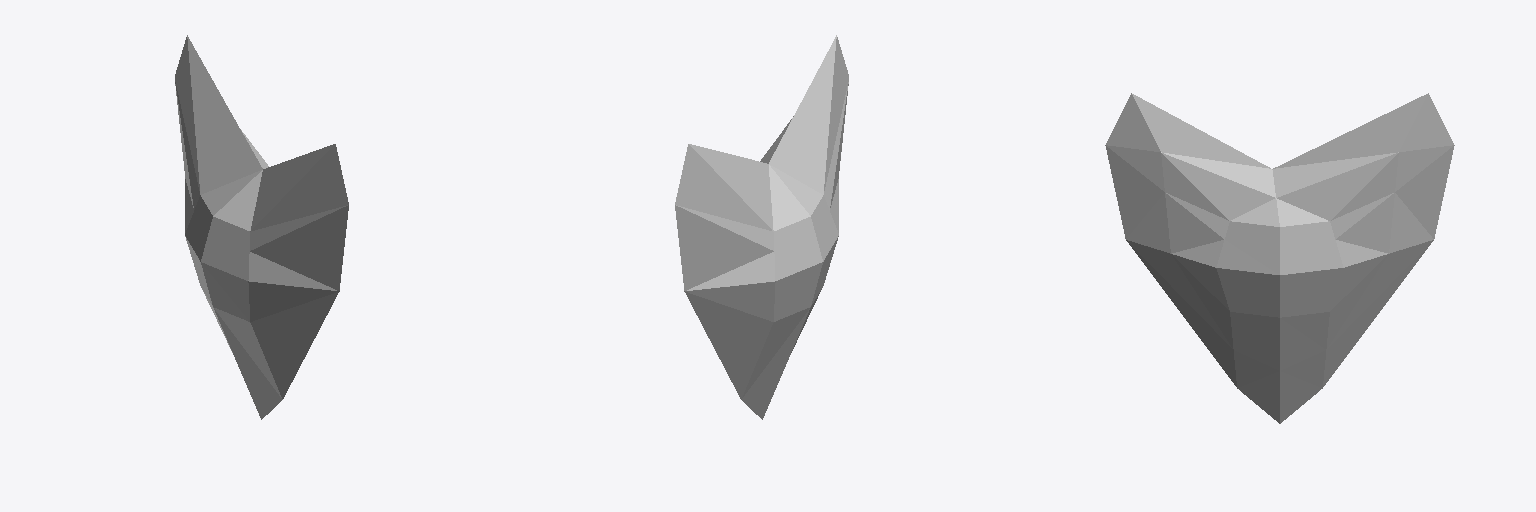
File: heart.obj
The picture shows the model from 3 angles: view 1: azimuth 30°, elevation 25°; view 2: azimuth 150°, elevation 25°; view 3: azimuth 270°, elevation 25°; orthographic projection.
Parts seen in each view (by area): view 1: Cube; view 2: Cube; view 3: Cube.
Boxes of the visible parts, <box> form: Cube: <box>175,35,348,419</box>; Cube: <box>675,35,848,419</box>; Cube: <box>1105,93,1454,423</box>.
Bounding box in the file's own units: 2.55 × 7.31 × 6.99.